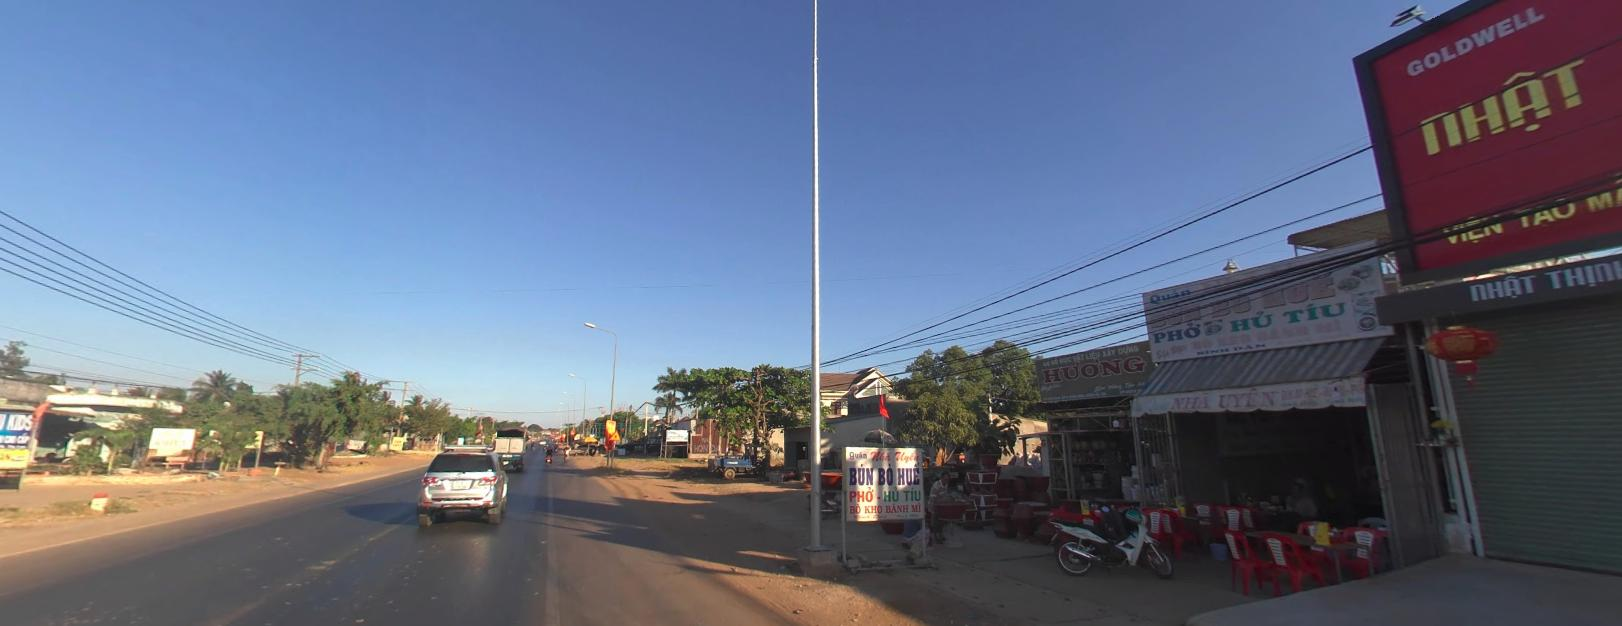Nguy hiem: (608, 428, 621, 439)
